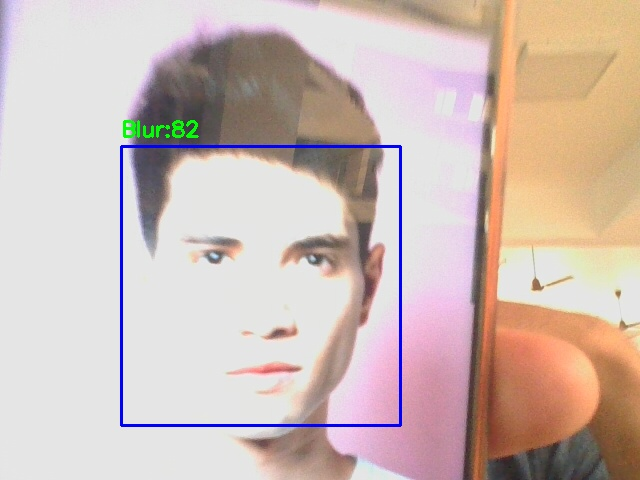fake: (121, 146, 400, 425)
